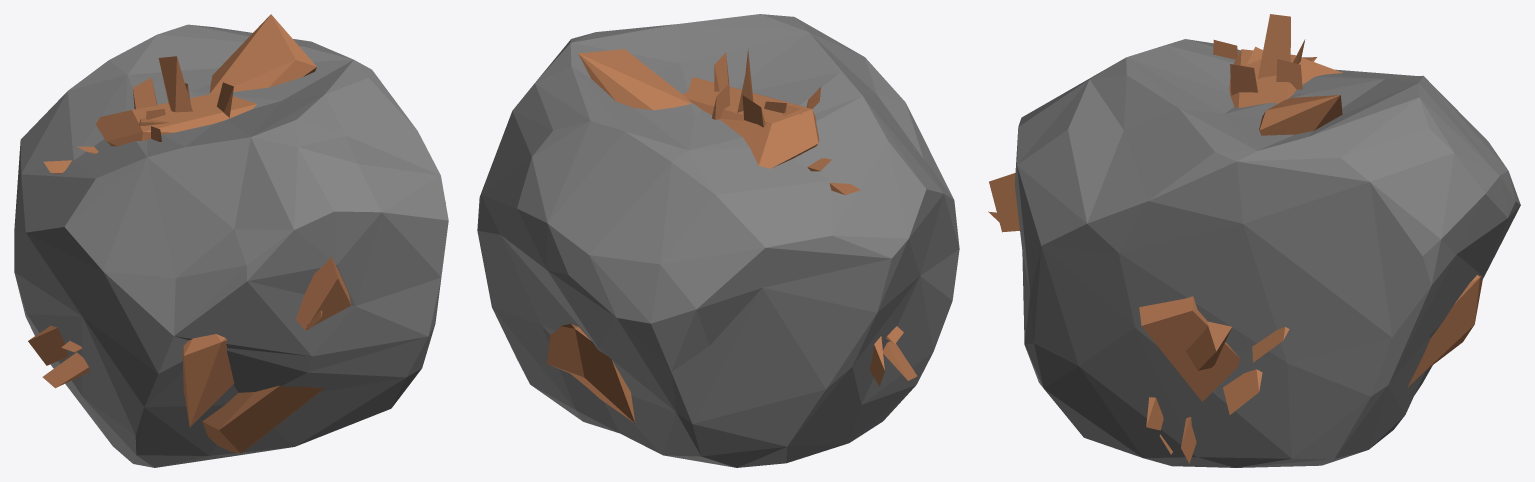
File: copper_01.fbx
The picture shows the model from 3 angles, left to right: view 1: azimuth 30°, elevation 25°; view 2: azimuth 150°, elevation 25°; view 3: azimuth 270°, elevation 25°; orthographic projection. The views are drawn at different scales.
Visible parts, largest first — view 1: copper; view 2: copper; view 3: copper.
Part boxes in pixels (<box>): copper: <box>14,14,448,467</box>; copper: <box>477,14,959,467</box>; copper: <box>988,14,1520,467</box>.
Bounding box in the file's own units: 406 × 360 × 431.
Materials: 1 (1 with a texture image).
